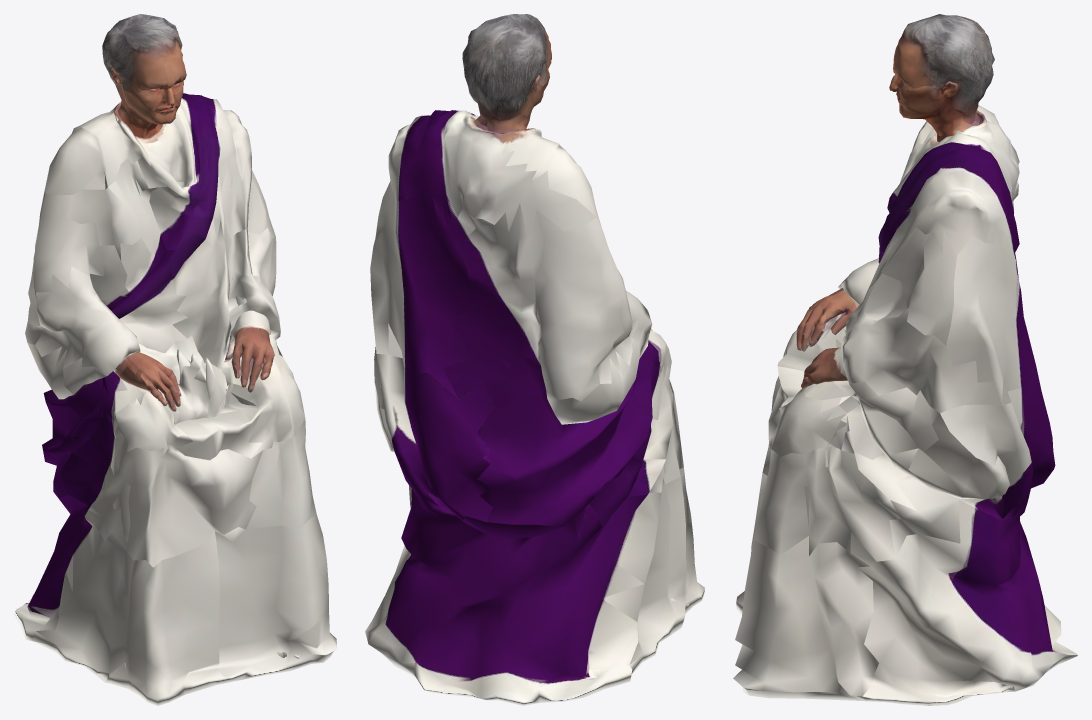
Rendered from senator_m1.glb.
3 views of the same model, side by side, from view 1: azimuth 30°, elevation 25°; view 2: azimuth 150°, elevation 25°; view 3: azimuth 270°, elevation 25° (orthographic). The views are drawn at different scales.
Bounding box in the file's own units: 0.4209 × 0.998 × 0.4912.
1 material, 1 textured.
